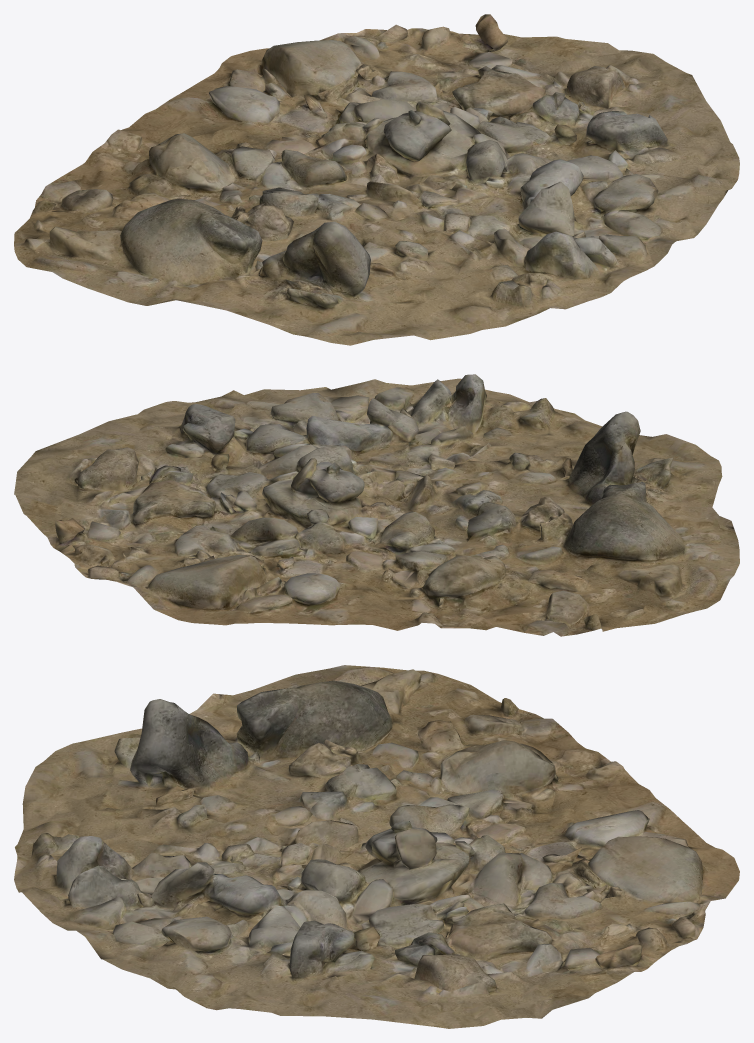
Rendered from sand_rocks_small_01.glb.
3 views of the same model, one above another, from view 1: azimuth 30°, elevation 25°; view 2: azimuth 150°, elevation 25°; view 3: azimuth 270°, elevation 25° (orthographic). The views are drawn at different scales.
Parts seen in each view (by area): view 1: sand_rocks_small_01_LOD0; view 2: sand_rocks_small_01_LOD0; view 3: sand_rocks_small_01_LOD0.
Part boxes in pixels (bbox=[...]): sand_rocks_small_01_LOD0: bbox=[14, 14, 739, 345]; sand_rocks_small_01_LOD0: bbox=[14, 374, 739, 636]; sand_rocks_small_01_LOD0: bbox=[14, 665, 739, 1028].
Size of the model in its own units: 4.63 by 0.5333 by 3.88.
1 material, 1 textured.
